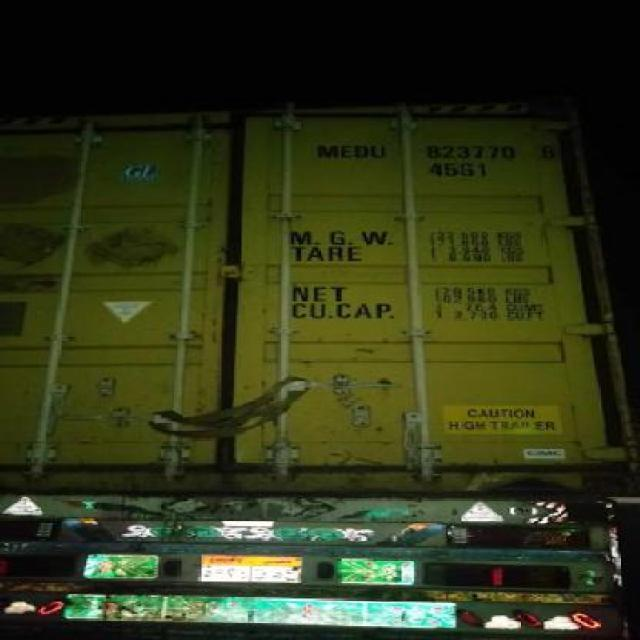ISO: (315, 142, 561, 164), (429, 160, 492, 182)
